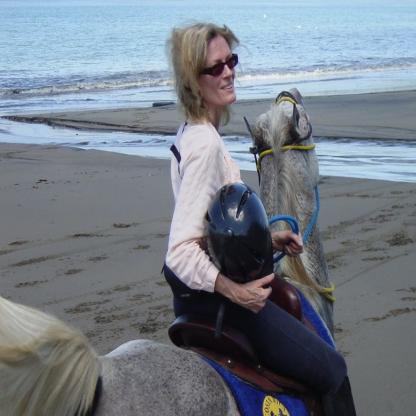Helmet: (209, 188, 279, 282)
